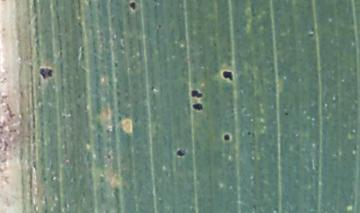tarspot: (39, 67, 53, 80), (222, 69, 233, 83), (191, 88, 203, 99), (175, 148, 187, 157), (191, 103, 204, 111), (128, 1, 136, 11), (112, 59, 119, 69), (223, 134, 231, 142), (156, 21, 163, 29), (246, 130, 252, 137), (283, 111, 289, 116)
